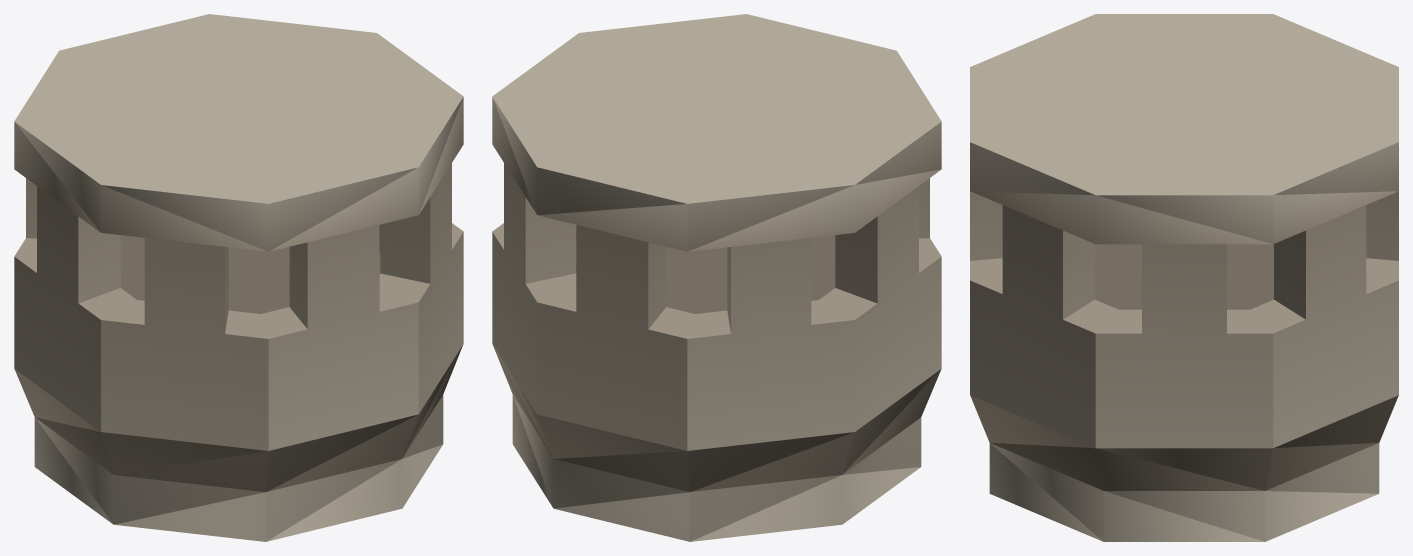
Rendered from K_Watchtower.glb.
3 views of the same model, side by side, from view 1: azimuth 30°, elevation 25°; view 2: azimuth 150°, elevation 25°; view 3: azimuth 270°, elevation 25° (orthographic). The views are drawn at different scales.
Parts seen in each view (by area): view 1: K_Watchtower; view 2: K_Watchtower; view 3: K_Watchtower.
Boxes of the visible parts, box(x1,y1,x2,y2) form: K_Watchtower: box(14, 14, 463, 541); K_Watchtower: box(492, 14, 941, 541); K_Watchtower: box(970, 14, 1398, 541).
Bounding box in the file's own units: 4.88 × 4.46 × 4.88.
